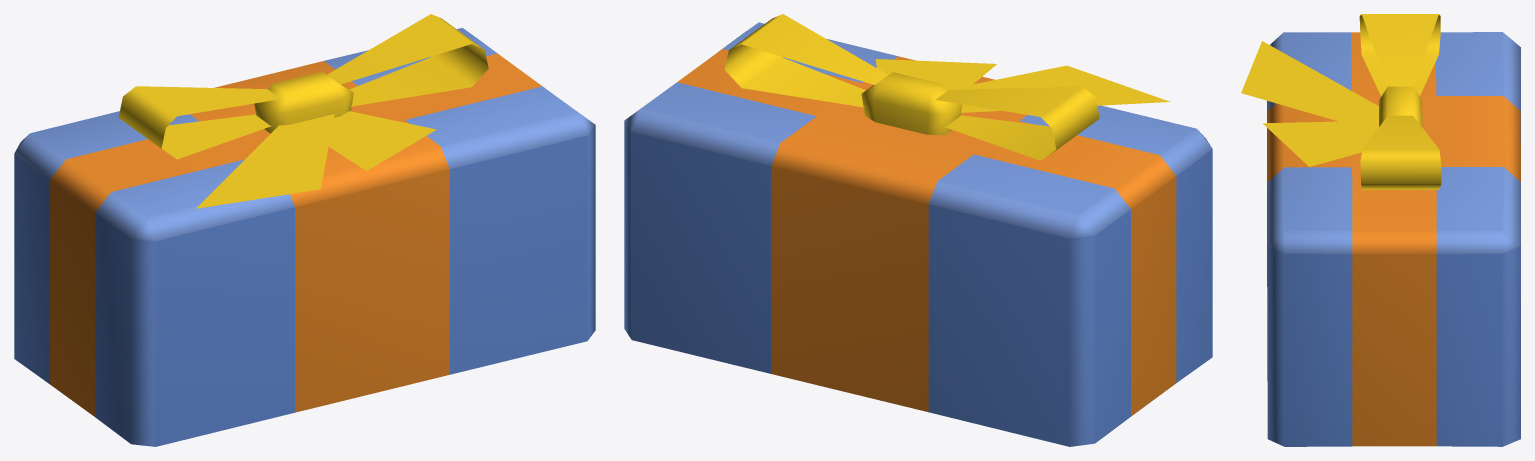
File: Gift_Christmas3.fbx
3 views of the same model, side by side, from view 1: azimuth 30°, elevation 25°; view 2: azimuth 150°, elevation 25°; view 3: azimuth 270°, elevation 25° (orthographic). The views are drawn at different scales.
Parts seen in each view (by area): view 1: Gift_Christmas3; view 2: Gift_Christmas3; view 3: Gift_Christmas3.
Part boxes in pixels (x1=…): Gift_Christmas3: x1=14, y1=14, x2=595, y2=446; Gift_Christmas3: x1=624, y1=14, x2=1212, y2=446; Gift_Christmas3: x1=1241, y1=14, x2=1520, y2=446.
Bounding box in the file's own units: 74.2 × 42.12 × 41.12.
